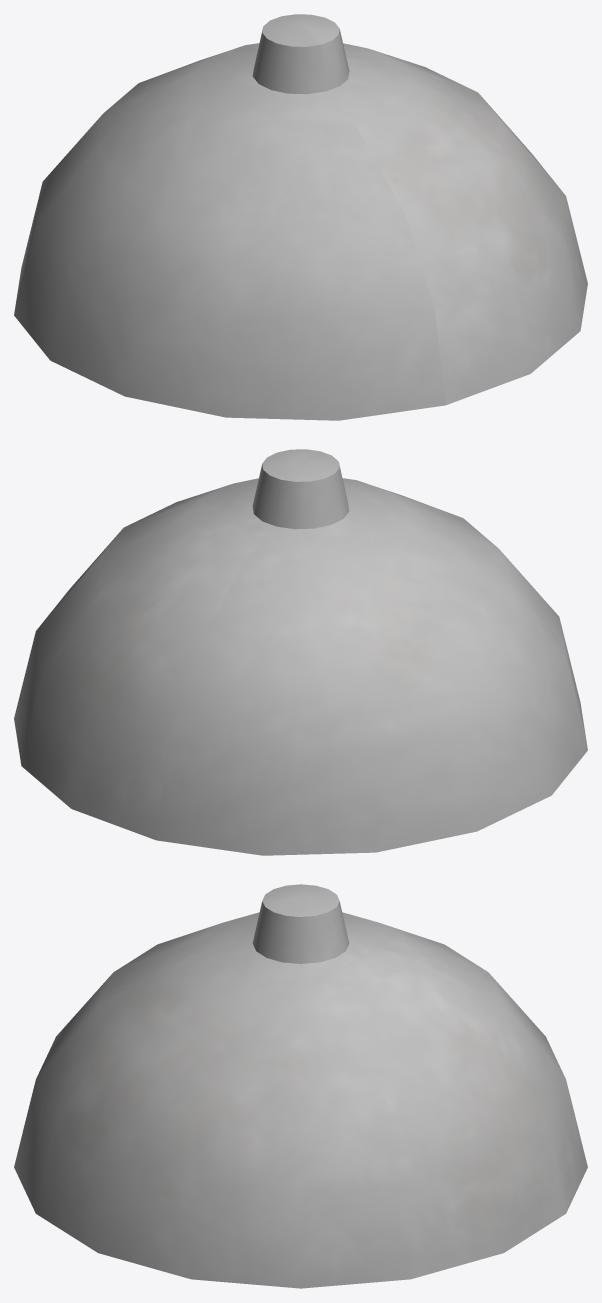
The model's file is CeilingLamp.fbx.
3 views of the same model, one above another, from view 1: azimuth 30°, elevation 25°; view 2: azimuth 150°, elevation 25°; view 3: azimuth 270°, elevation 25° (orthographic).
Visible parts, largest first — view 1: Light.002; view 2: Light.002; view 3: Light.002.
Part boxes in pixels (box(x1,y1,x2,y2)): Light.002: box(14, 14, 587, 420); Light.002: box(14, 449, 587, 855); Light.002: box(14, 884, 587, 1288).
Size of the model in its own units: 0.2492 by 0.2492 by 0.1305.
